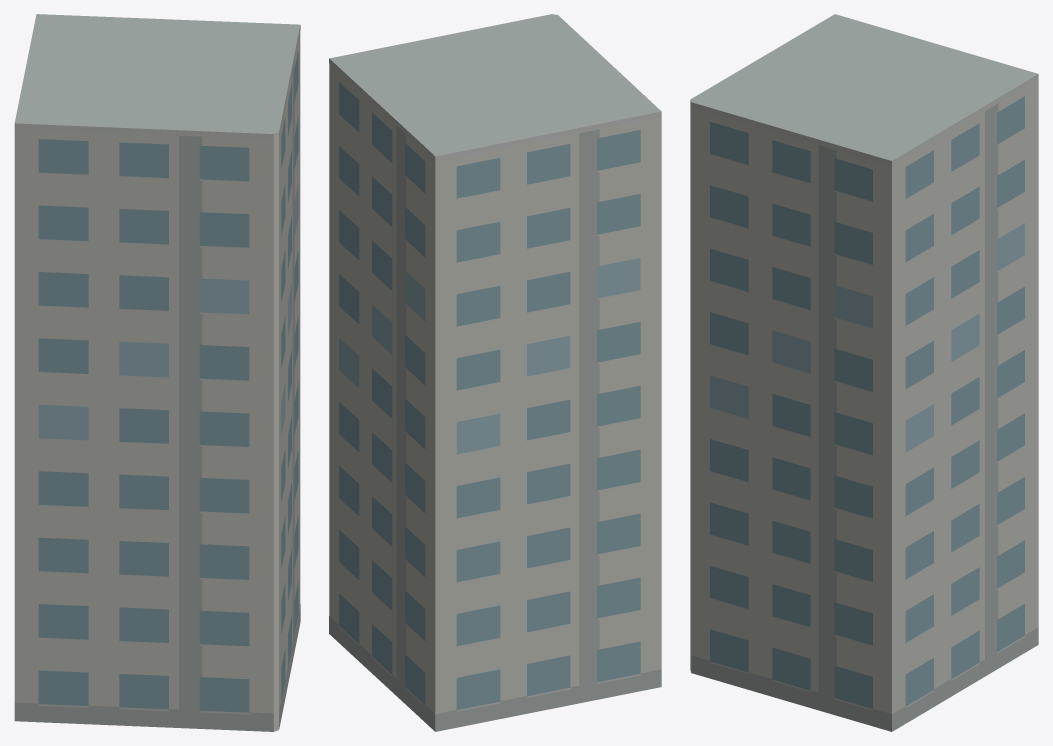
The model's file is survey-upis-32699976.glb.
The picture shows the model from 3 angles, left to right: view 1: azimuth 30°, elevation 25°; view 2: azimuth 150°, elevation 25°; view 3: azimuth 270°, elevation 25°; orthographic projection. The views are drawn at different scales.
Parts seen in each view (by area): view 1: survey-upis-32699976.tmp; view 2: survey-upis-32699976.tmp; view 3: survey-upis-32699976.tmp.
Part boxes in pixels (x1=…): survey-upis-32699976.tmp: x1=14, y1=14, x2=300, y2=731; survey-upis-32699976.tmp: x1=329, y1=14, x2=661, y2=731; survey-upis-32699976.tmp: x1=690, y1=14, x2=1038, y2=731.
Size of the model in its own units: 14.32 by 25.9 by 14.33.
